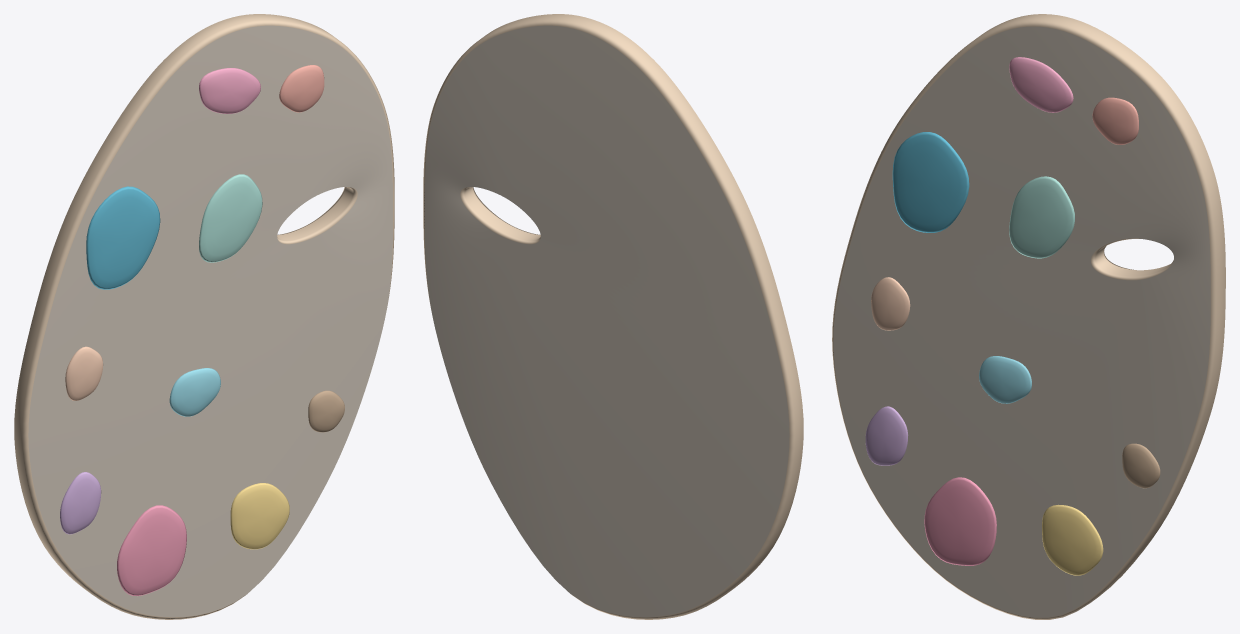
The model's file is yuna-palette-source-guided-candidate.glb.
3 views of the same model, side by side, from view 1: azimuth 30°, elevation 25°; view 2: azimuth 150°, elevation 25°; view 3: azimuth 330°, elevation 25° (orthographic). The views are drawn at different scales.
Visible parts, largest first — view 1: Yuna_palette_body_with_open_thumb_hole, Paint_cobalt_left_upper, Paint_rose_lower, Paint_mint_upper_middle, Paint_yellow_lower, Paint_pink_upper, Paint_violet_lower_left, Paint_sky_middle, Paint_coral_upper, Paint_orange_left_middle, Paint_brown_right_middle; view 2: Yuna_palette_body_with_open_thumb_hole; view 3: Yuna_palette_body_with_open_thumb_hole, Paint_cobalt_left_upper, Paint_rose_lower, Paint_mint_upper_middle, Paint_yellow_lower, Paint_pink_upper, Paint_violet_lower_left, Paint_sky_middle, Paint_coral_upper, Paint_orange_left_middle, Paint_brown_right_middle.
Part boxes in pixels (x1,y1,x2,y2): Yuna_palette_body_with_open_thumb_hole: (14,14,394,619); Paint_cobalt_left_upper: (86,186,160,289); Paint_rose_lower: (117,505,186,596); Paint_mint_upper_middle: (199,174,262,262); Paint_yellow_lower: (230,483,289,549); Paint_pink_upper: (199,68,260,113); Paint_violet_lower_left: (60,472,101,534); Paint_sky_middle: (169,368,220,416); Paint_coral_upper: (279,65,324,112); Paint_orange_left_middle: (65,346,103,400); Paint_brown_right_middle: (308,390,344,432); Yuna_palette_body_with_open_thumb_hole: (423,14,803,619); Yuna_palette_body_with_open_thumb_hole: (832,14,1225,619); Paint_cobalt_left_upper: (892,132,969,232); Paint_rose_lower: (924,477,996,565); Paint_mint_upper_middle: (1009,176,1074,258); Paint_yellow_lower: (1042,504,1103,575); Paint_pink_upper: (1009,57,1073,112); Paint_violet_lower_left: (865,406,908,465); Paint_sky_middle: (979,356,1031,403); Paint_coral_upper: (1092,97,1138,144); Paint_orange_left_middle: (871,277,910,330); Paint_brown_right_middle: (1122,443,1160,488).
Size of the model in its own units: 0.7007 by 1.05 by 0.052.
